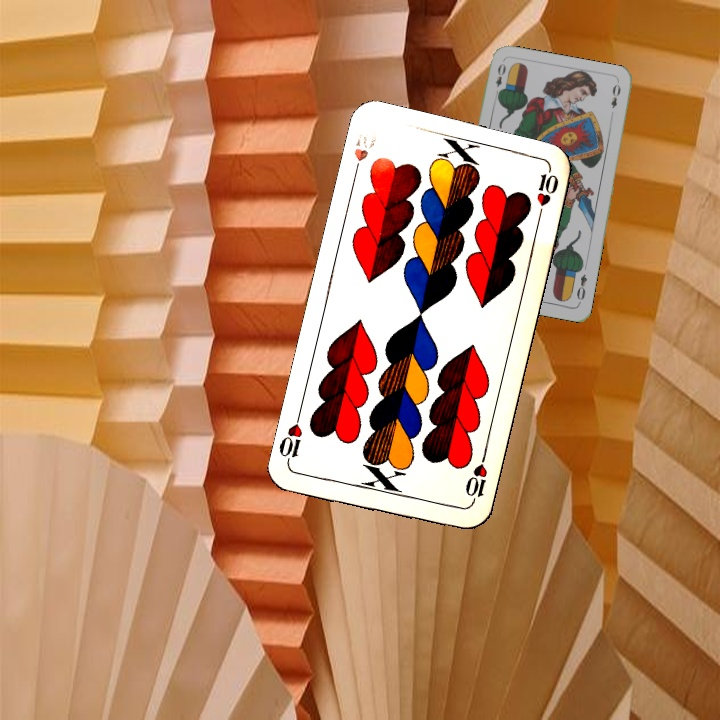EO: (491, 59, 508, 99), (573, 270, 590, 306)
H10: (461, 450, 490, 508), (349, 128, 380, 182)
